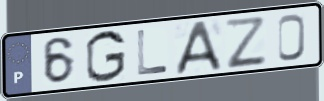0: (276, 13, 307, 63)
6: (41, 36, 77, 87)
A: (173, 18, 225, 77)
G: (83, 28, 128, 84)
L: (135, 27, 170, 77)
Z: (222, 14, 269, 70)
